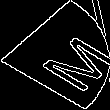M_NW: (7, 21, 103, 89)
